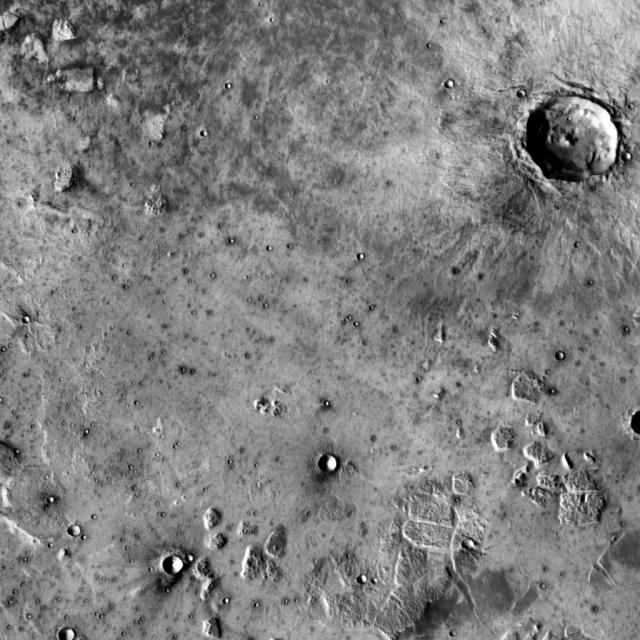crater: (532, 95, 627, 181), (164, 556, 184, 574), (320, 456, 339, 473), (66, 629, 82, 640), (462, 538, 473, 549), (67, 525, 78, 535), (554, 352, 564, 361), (358, 575, 368, 584), (621, 151, 631, 159), (22, 316, 32, 324), (516, 89, 524, 97), (445, 81, 453, 88), (186, 555, 194, 562), (225, 84, 233, 90), (49, 496, 56, 502), (200, 130, 207, 136), (358, 254, 364, 260)
